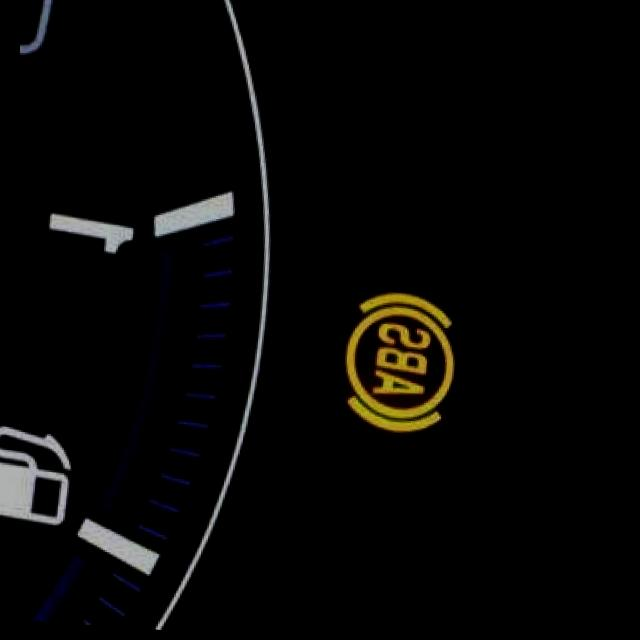kontrolka: (326, 270, 474, 449)
